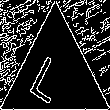L_NE: (32, 43, 78, 103)
